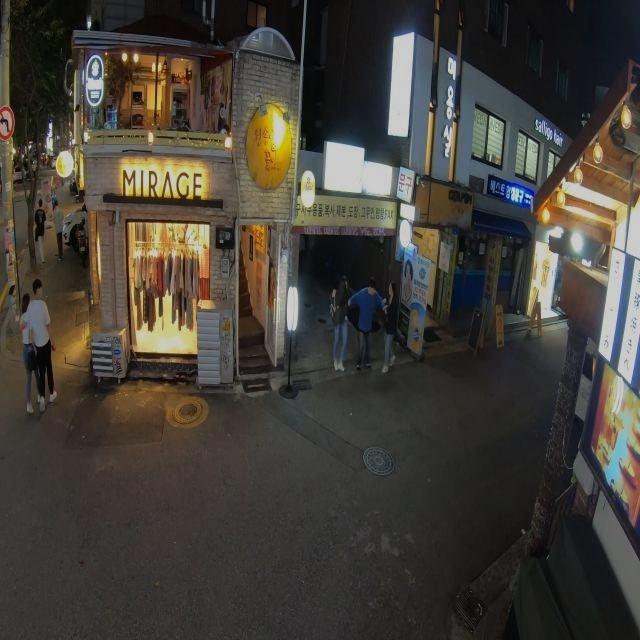fight: (346, 280, 386, 376), (329, 276, 352, 370), (380, 283, 399, 373)
non-fight: (22, 278, 56, 408), (14, 294, 45, 412)
